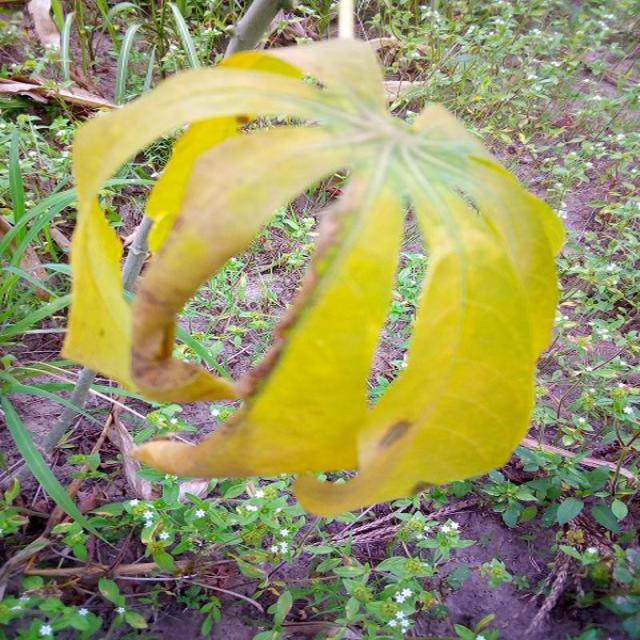cassava leaf: (61, 36, 566, 518)
